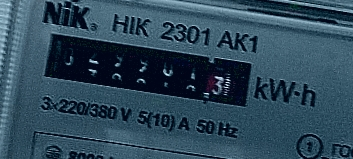0: (159, 52, 176, 79), (58, 44, 77, 67)
1: (183, 57, 200, 81)
2: (84, 44, 102, 66)
3: (209, 72, 225, 95)
9: (134, 50, 151, 74), (109, 46, 124, 70)
screen: (29, 20, 263, 117)
